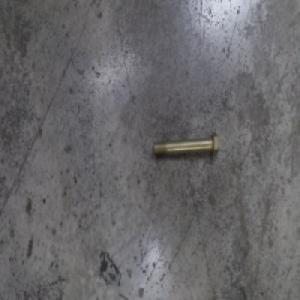Bolt: (151, 129, 219, 159)
